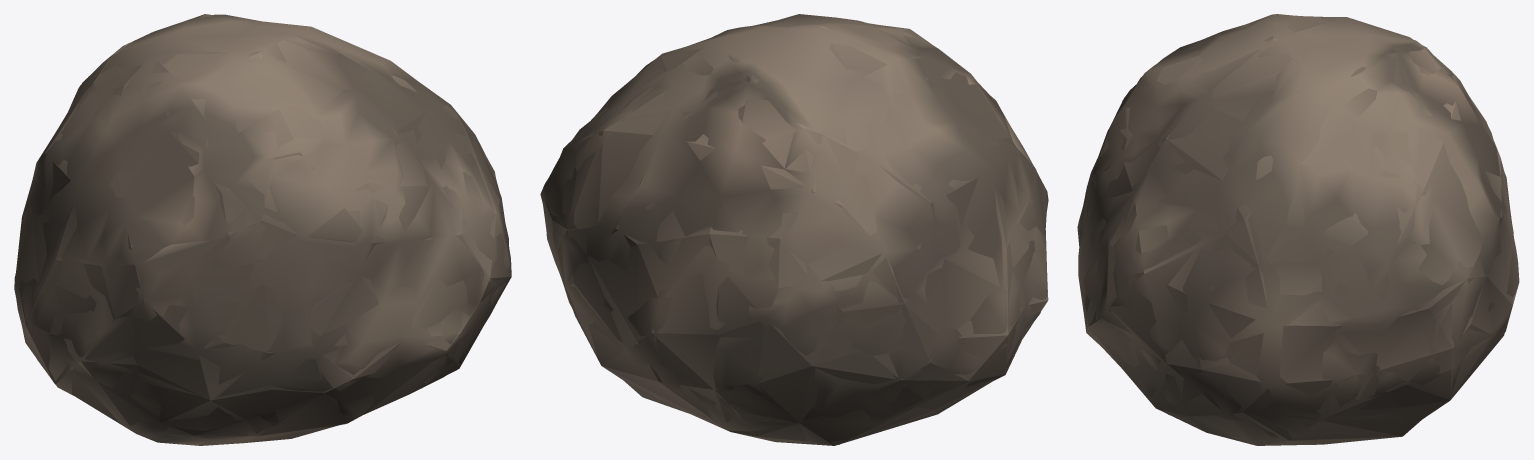
The model's file is rock.glb.
3 views of the same model, side by side, from view 1: azimuth 30°, elevation 25°; view 2: azimuth 150°, elevation 25°; view 3: azimuth 270°, elevation 25° (orthographic). The views are drawn at different scales.
Parts seen in each view (by area): view 1: rock_LOD1, rock_LOD2; view 2: rock_LOD1, rock_LOD2; view 3: rock_LOD1, rock_LOD2.
Part boxes in pixels (<box>): rock_LOD1: <box>14,14,510,445</box>; rock_LOD2: <box>14,14,511,445</box>; rock_LOD1: <box>540,14,1048,444</box>; rock_LOD2: <box>542,17,1048,445</box>; rock_LOD1: <box>1077,14,1518,444</box>; rock_LOD2: <box>1079,16,1519,445</box>.
Bounding box in the file's own units: 1.23 × 0.9605 × 1.07.
